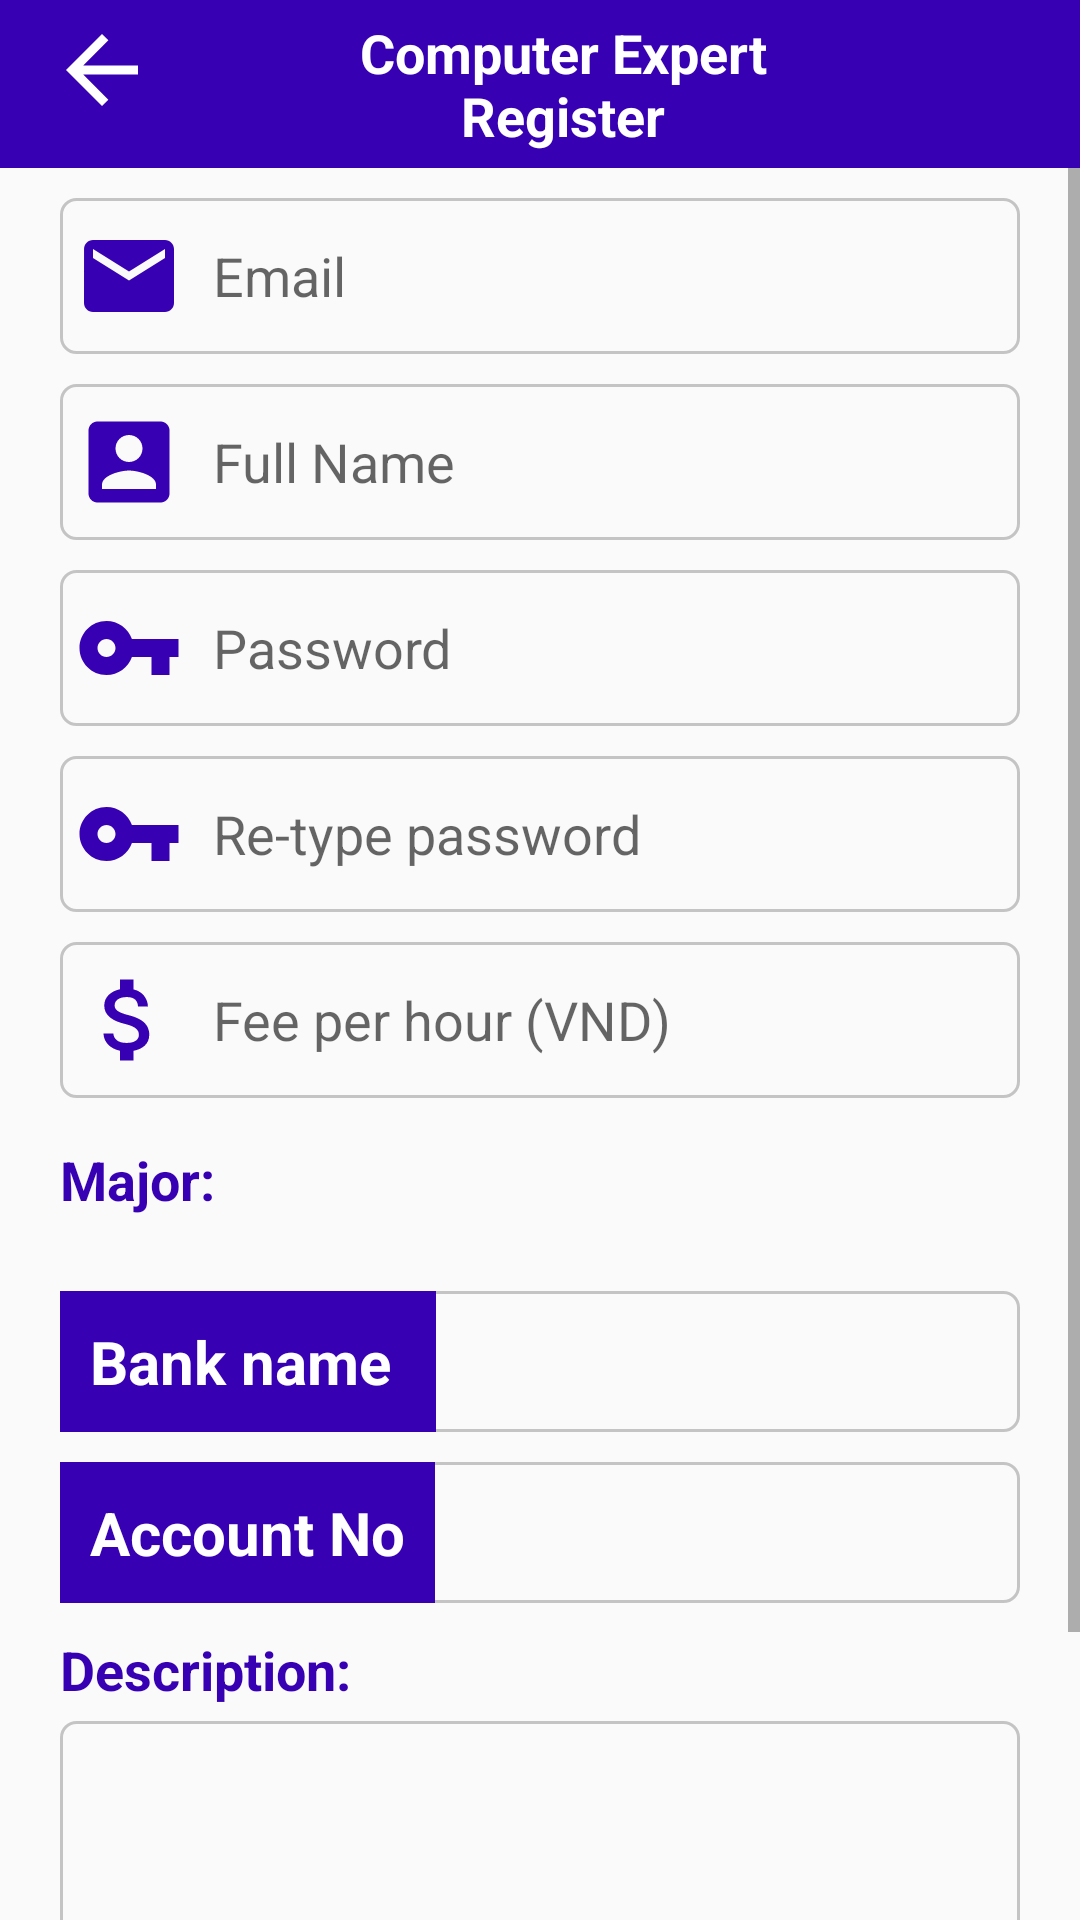

Where to tap for icons on this 1080w x 1920h app screen, as (x=x, y=y):
back: (x=102, y=70)
